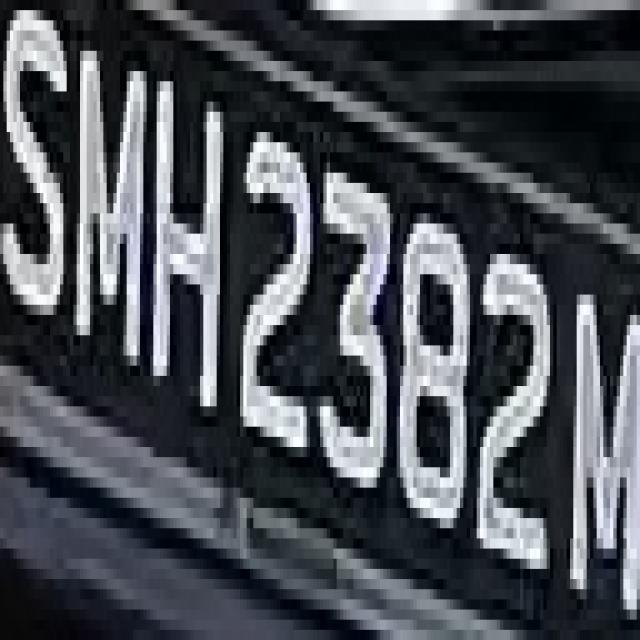2: (474, 213, 554, 600), (234, 102, 314, 467)
3: (314, 132, 394, 508)
8: (403, 183, 477, 559)
H: (147, 30, 230, 447)
M: (64, 31, 154, 407), (563, 213, 640, 630)
S: (0, 0, 77, 356)
